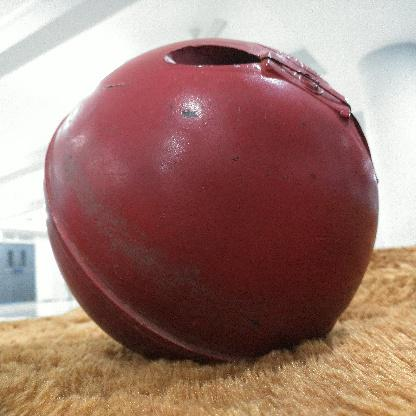red_buoy: (40, 30, 384, 376)
